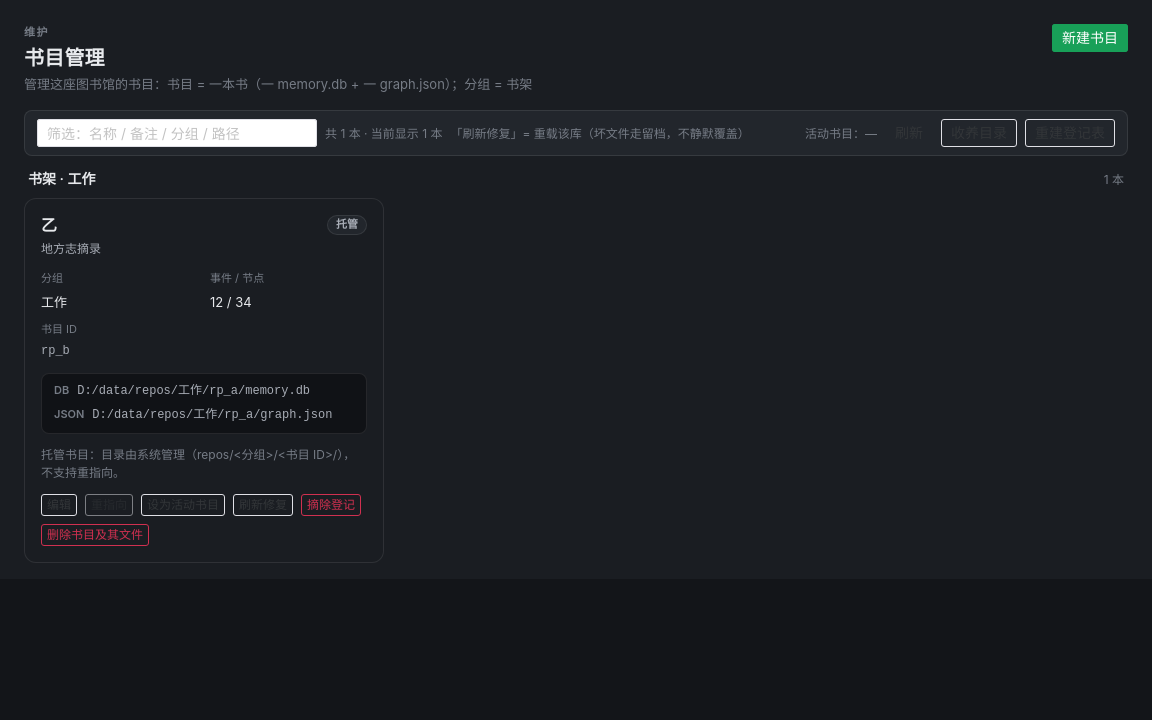
Test case: ReposPage（书目管理） › 收养目录：入口在工具条，弹窗写明「只补空件」与 graph_ops 重放
Click the button "收养目录" at coordinates (979, 133), box 941,119 -> 1017,147
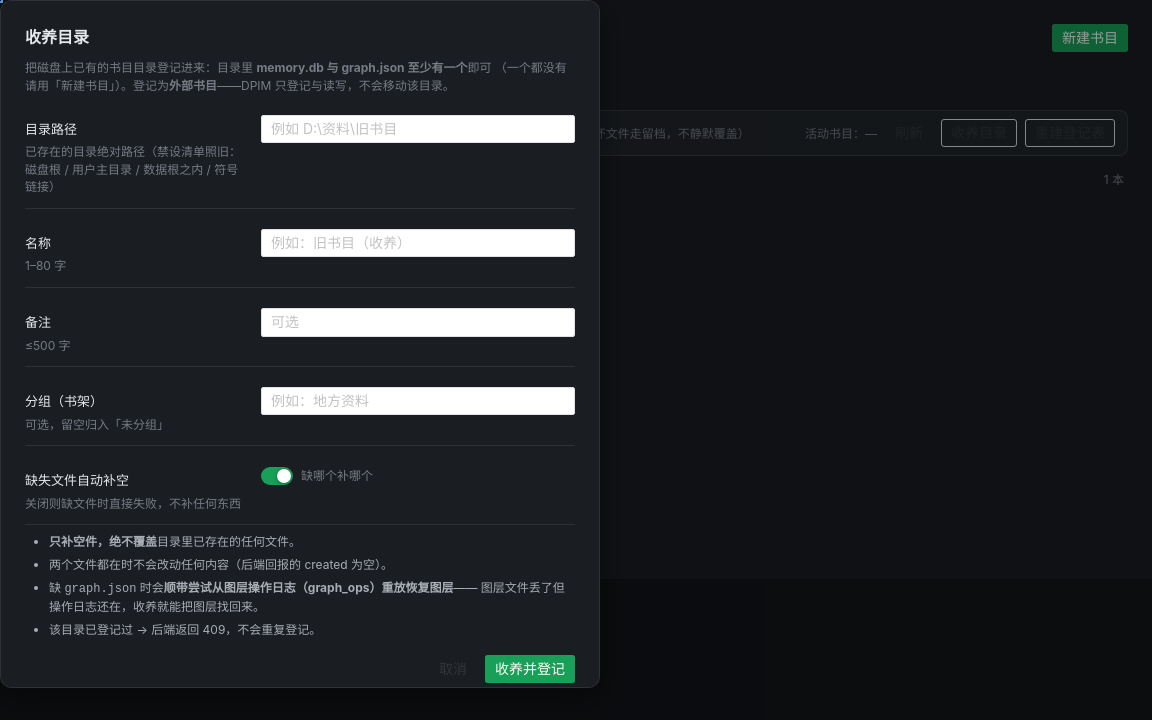
Expected: the text "新建" is shown, 1062,31 -> 1118,45
Result: the text "只补空件" is shown at 49,534 -> 157,549
Result: the text "graph_ops" is shown at 164,580 -> 454,594
